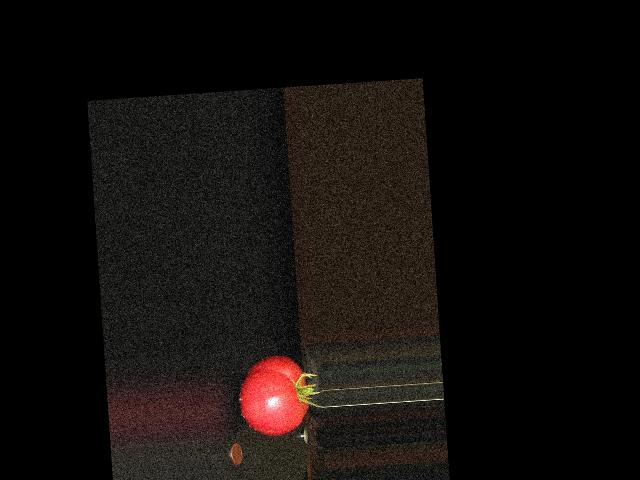tomato: (236, 353, 310, 437)
